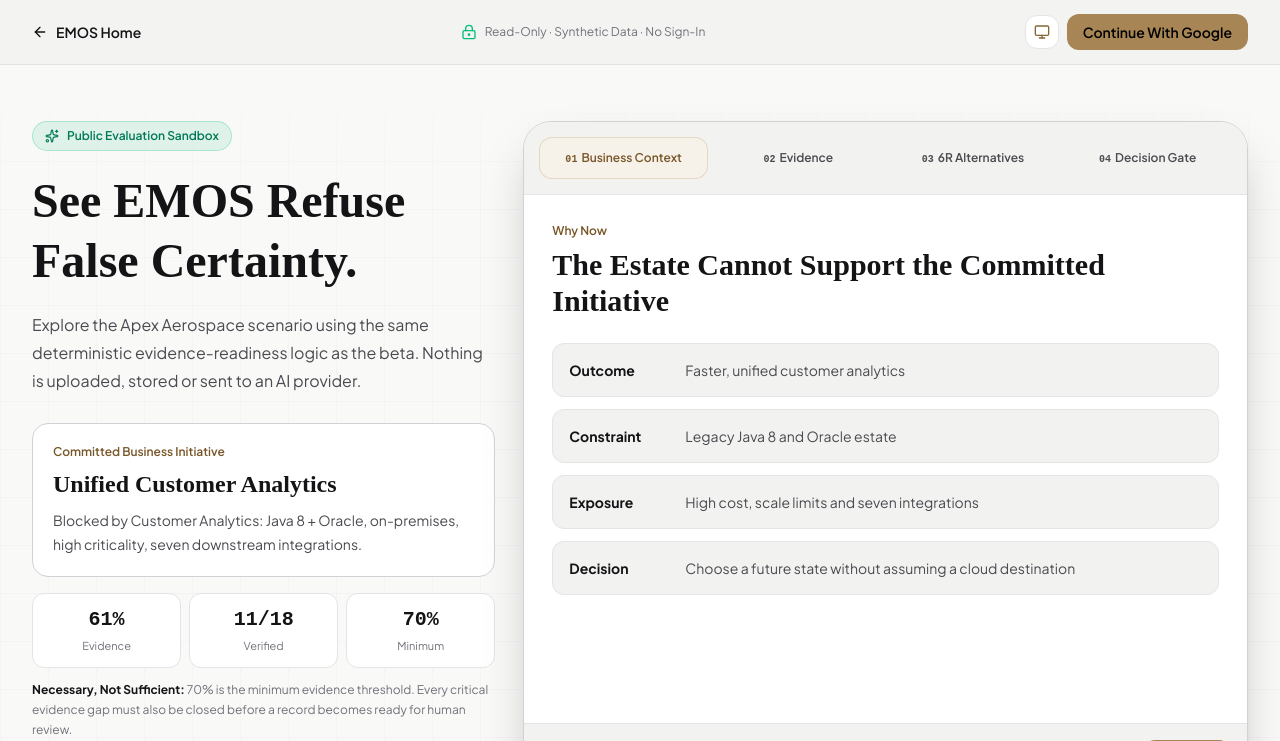
Test case: Public Governance Routes (/privacy & /terms) › renders the public evaluation sandbox without requiring Google Sign-In
expect the heading "See EMOS Refuse False Certainty." is shown: met, box [32, 174, 405, 287]
expect the text "Read-Only · Synthetic Data · No Sign-In" is shown: met, box [461, 24, 705, 40]
Click the tab "04Decision Gate" at (1148,158), box [1064, 138, 1231, 178]
(page scrolled)
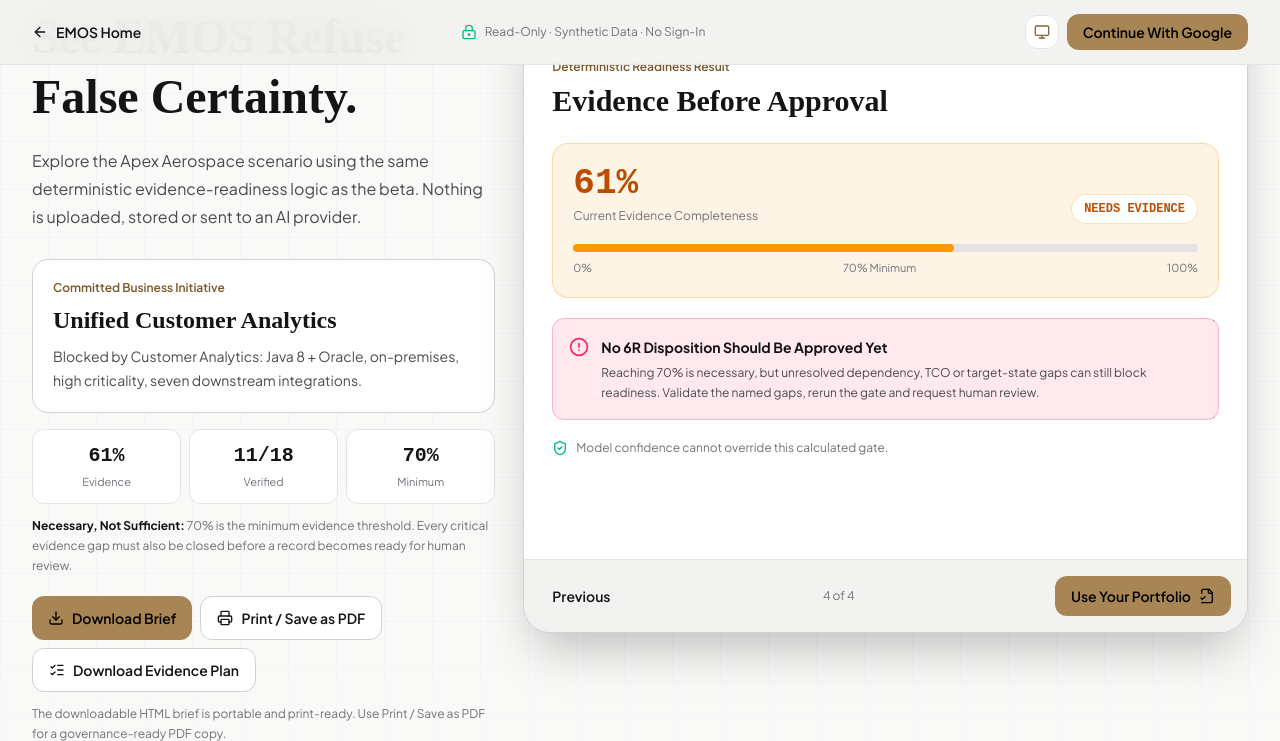
expect the text "No 6R Disposition Should Be Approved Yet" is shown: met, box [601, 338, 888, 356]
expect the text "Model confidence cannot override this calculated gate." is shown: met, box [552, 440, 888, 456]
